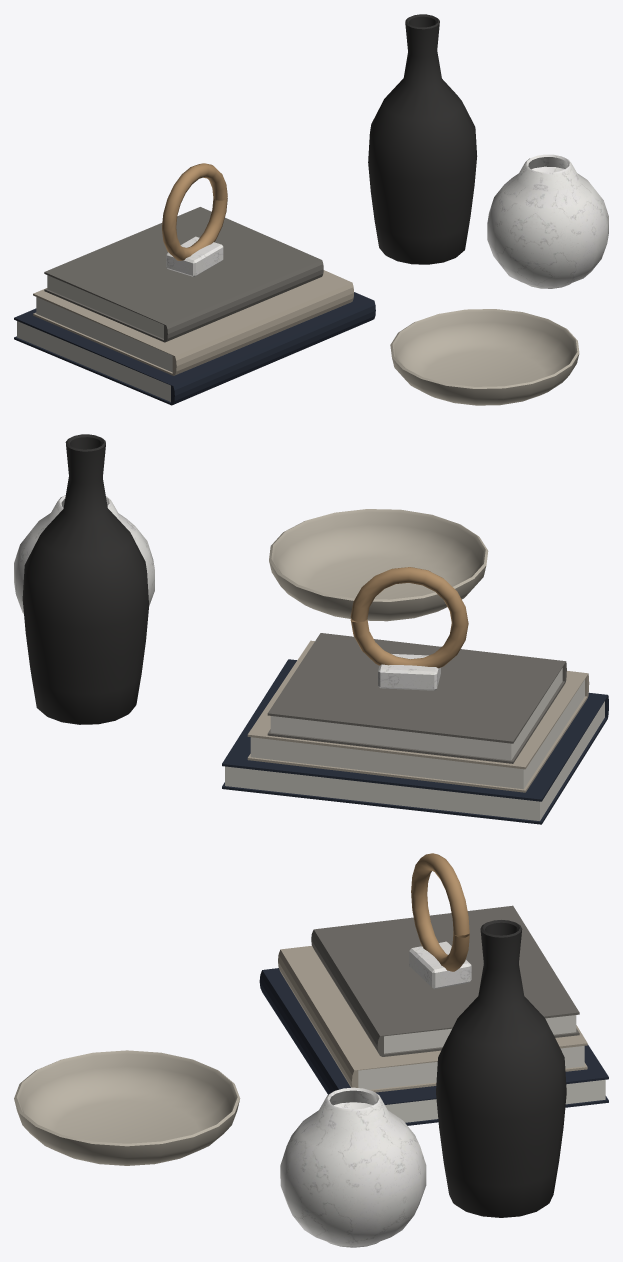
File: decor_d_vignette_coffee.gltf
3 views of the same model, one above another, from view 1: azimuth 30°, elevation 25°; view 2: azimuth 150°, elevation 25°; view 3: azimuth 270°, elevation 25° (orthographic). The views are drawn at different scales.
Visible parts, largest first — view 1: DecorD_Vignette_Coffee_Vase01_Charcoal_NoCollide, DecorD_Vignette_Coffee_Book03_StoneFabric_NoCollide, DecorD_Vignette_Coffee_Bowl01_Stoneware_NoCollide, DecorD_Vignette_Coffee_Vase02_Marble_NoCollide, DecorD_Vignette_Coffee_Book02_Oat_NoCollide, DecorD_Vignette_Coffee_Book01_Ink_NoCollide, DecorD_Vignette_Coffee_Ornament01_Bronze_NoCollide, DecorD_Vignette_Coffee_Book01_Paper_NoCollide, DecorD_Vignette_Coffee_Book02_Paper_NoCollide, DecorD_Vignette_Coffee_Book03_Paper_NoCollide, DecorD_Vignette_Coffee_Ornament01_Marble_NoCollide; view 2: DecorD_Vignette_Coffee_Vase01_Charcoal_NoCollide, DecorD_Vignette_Coffee_Book03_StoneFabric_NoCollide, DecorD_Vignette_Coffee_Bowl01_Stoneware_NoCollide, DecorD_Vignette_Coffee_Book01_Ink_NoCollide, DecorD_Vignette_Coffee_Book01_Paper_NoCollide, DecorD_Vignette_Coffee_Book02_Paper_NoCollide, DecorD_Vignette_Coffee_Book02_Oat_NoCollide, DecorD_Vignette_Coffee_Book03_Paper_NoCollide, DecorD_Vignette_Coffee_Ornament01_Bronze_NoCollide, DecorD_Vignette_Coffee_Vase02_Marble_NoCollide, DecorD_Vignette_Coffee_Ornament01_Marble_NoCollide; view 3: DecorD_Vignette_Coffee_Vase01_Charcoal_NoCollide, DecorD_Vignette_Coffee_Bowl01_Stoneware_NoCollide, DecorD_Vignette_Coffee_Vase02_Marble_NoCollide, DecorD_Vignette_Coffee_Book03_StoneFabric_NoCollide, DecorD_Vignette_Coffee_Book02_Oat_NoCollide, DecorD_Vignette_Coffee_Book01_Ink_NoCollide, DecorD_Vignette_Coffee_Ornament01_Bronze_NoCollide, DecorD_Vignette_Coffee_Book02_Paper_NoCollide, DecorD_Vignette_Coffee_Book01_Paper_NoCollide, DecorD_Vignette_Coffee_Book03_Paper_NoCollide, DecorD_Vignette_Coffee_Ornament01_Marble_NoCollide.
Part boxes in pixels (x1=…): DecorD_Vignette_Coffee_Vase01_Charcoal_NoCollide: x1=368, y1=14, x2=477, y2=264; DecorD_Vignette_Coffee_Book03_StoneFabric_NoCollide: x1=44, y1=207, x2=323, y2=342; DecorD_Vignette_Coffee_Bowl01_Stoneware_NoCollide: x1=390, y1=309, x2=579, y2=405; DecorD_Vignette_Coffee_Vase02_Marble_NoCollide: x1=487, y1=154, x2=608, y2=288; DecorD_Vignette_Coffee_Book02_Oat_NoCollide: x1=33, y1=270, x2=353, y2=375; DecorD_Vignette_Coffee_Book01_Ink_NoCollide: x1=14, y1=292, x2=375, y2=405; DecorD_Vignette_Coffee_Ornament01_Bronze_NoCollide: x1=162, y1=163, x2=227, y2=260; DecorD_Vignette_Coffee_Book01_Paper_NoCollide: x1=17, y1=321, x2=170, y2=401; DecorD_Vignette_Coffee_Book02_Paper_NoCollide: x1=36, y1=297, x2=172, y2=372; DecorD_Vignette_Coffee_Book03_Paper_NoCollide: x1=47, y1=275, x2=163, y2=338; DecorD_Vignette_Coffee_Ornament01_Marble_NoCollide: x1=166, y1=236, x2=223, y2=276; DecorD_Vignette_Coffee_Vase01_Charcoal_NoCollide: x1=22, y1=434, x2=148, y2=724; DecorD_Vignette_Coffee_Book03_StoneFabric_NoCollide: x1=267, y1=633, x2=566, y2=763; DecorD_Vignette_Coffee_Bowl01_Stoneware_NoCollide: x1=269, y1=509, x2=488, y2=621; DecorD_Vignette_Coffee_Book01_Ink_NoCollide: x1=222, y1=659, x2=608, y2=824; DecorD_Vignette_Coffee_Book01_Paper_NoCollide: x1=225, y1=701, x2=604, y2=820; DecorD_Vignette_Coffee_Book02_Paper_NoCollide: x1=250, y1=679, x2=584, y2=789; DecorD_Vignette_Coffee_Book02_Oat_NoCollide: x1=247, y1=640, x2=589, y2=792; DecorD_Vignette_Coffee_Book03_Paper_NoCollide: x1=270, y1=668, x2=562, y2=760; DecorD_Vignette_Coffee_Ornament01_Bronze_NoCollide: x1=350, y1=567, x2=468, y2=668; DecorD_Vignette_Coffee_Vase02_Marble_NoCollide: x1=14, y1=495, x2=154, y2=613; DecorD_Vignette_Coffee_Ornament01_Marble_NoCollide: x1=378, y1=654, x2=440, y2=690; DecorD_Vignette_Coffee_Vase01_Charcoal_NoCollide: x1=436, y1=920, x2=566, y2=1217; DecorD_Vignette_Coffee_Bowl01_Stoneware_NoCollide: x1=14, y1=1050, x2=240, y2=1165; DecorD_Vignette_Coffee_Vase02_Marble_NoCollide: x1=280, y1=1087, x2=426, y2=1247; DecorD_Vignette_Coffee_Book03_StoneFabric_NoCollide: x1=311, y1=905, x2=579, y2=1056; DecorD_Vignette_Coffee_Book02_Oat_NoCollide: x1=278, y1=945, x2=587, y2=1092; DecorD_Vignette_Coffee_Book01_Ink_NoCollide: x1=259, y1=968, x2=608, y2=1125; DecorD_Vignette_Coffee_Ornament01_Bronze_NoCollide: x1=411, y1=853, x2=469, y2=971; DecorD_Vignette_Coffee_Book02_Paper_NoCollide: x1=358, y1=1046, x2=584, y2=1089; DecorD_Vignette_Coffee_Book01_Paper_NoCollide: x1=385, y1=1079, x2=605, y2=1122; DecorD_Vignette_Coffee_Book03_Paper_NoCollide: x1=384, y1=1015, x2=576, y2=1053; DecorD_Vignette_Coffee_Ornament01_Marble_NoCollide: x1=409, y1=941, x2=471, y2=989.
Size of the model in its own units: 0.8166 by 0.3415 by 0.6837.
Materials: 8 (1 with a texture image).
